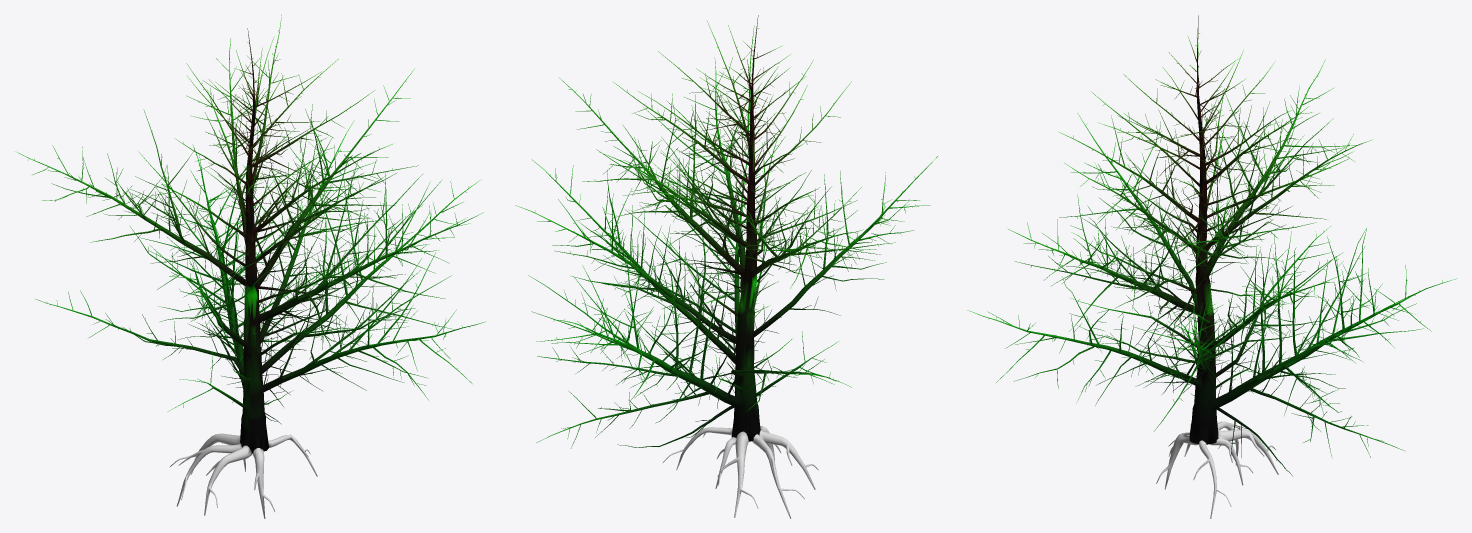
3 renders of one model, left to right at view 1: azimuth 30°, elevation 25°; view 2: azimuth 150°, elevation 25°; view 3: azimuth 270°, elevation 25°, orthographic.
Visible parts, largest first — view 1: Branches, Trunk, Roots; view 2: Branches, Trunk, Roots; view 3: Branches, Trunk, Roots.
Boxes of the visible parts, <box> form: Branches: <box>17,14,485,424</box>; Trunk: <box>240,28,268,453</box>; Roots: <box>170,433,317,518</box>; Branches: <box>515,21,937,448</box>; Trunk: <box>731,15,760,441</box>; Roots: <box>663,426,818,518</box>; Branches: <box>967,27,1456,476</box>; Trunk: <box>1189,15,1218,444</box>; Roots: <box>1156,421,1278,518</box>.
Size of the model in its own units: 39681 by 42324 by 45424.
